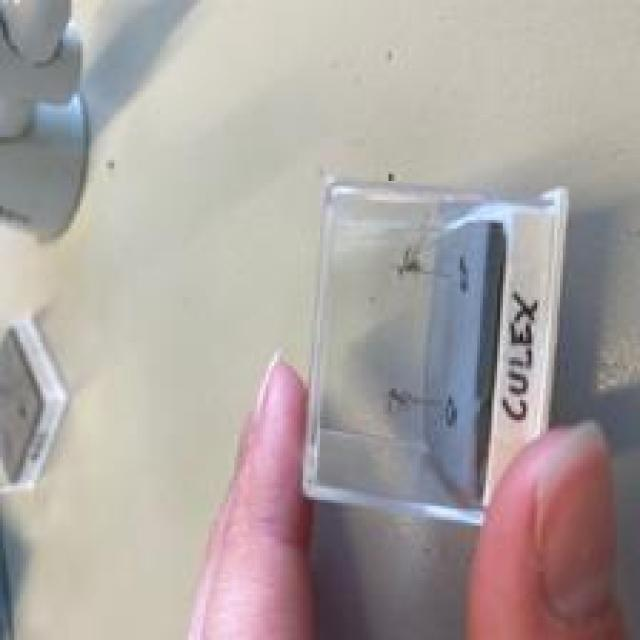Culex: (0, 0, 91, 243)
